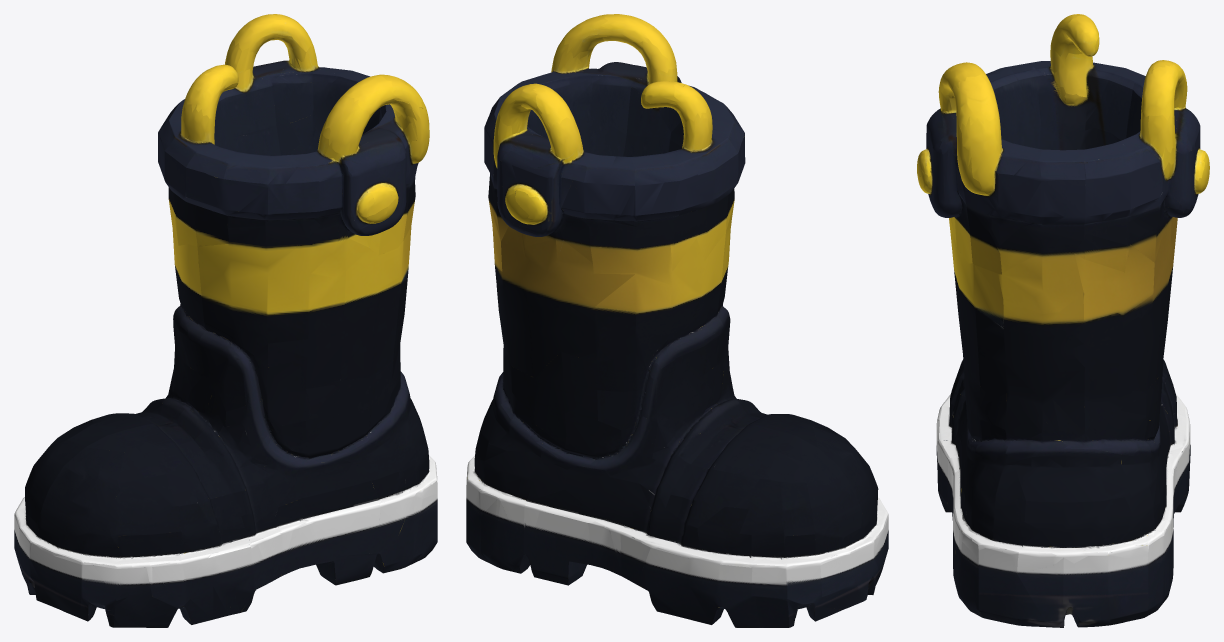
File: boot.glb
3 views of the same model, side by side, from view 1: azimuth 30°, elevation 25°; view 2: azimuth 150°, elevation 25°; view 3: azimuth 270°, elevation 25° (orthographic). The views are drawn at different scales.
Size of the model in its own units: 1.57 by 1.9 by 0.9749.
1 material, 1 textured.
